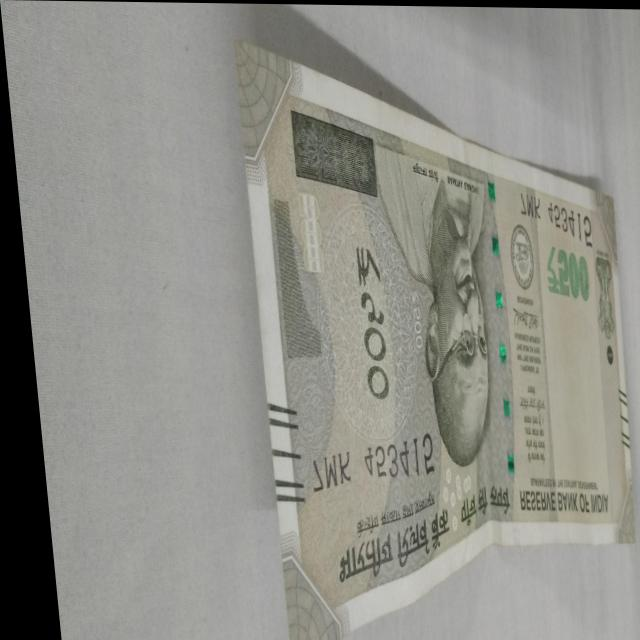Currency: (215, 65, 640, 595)
